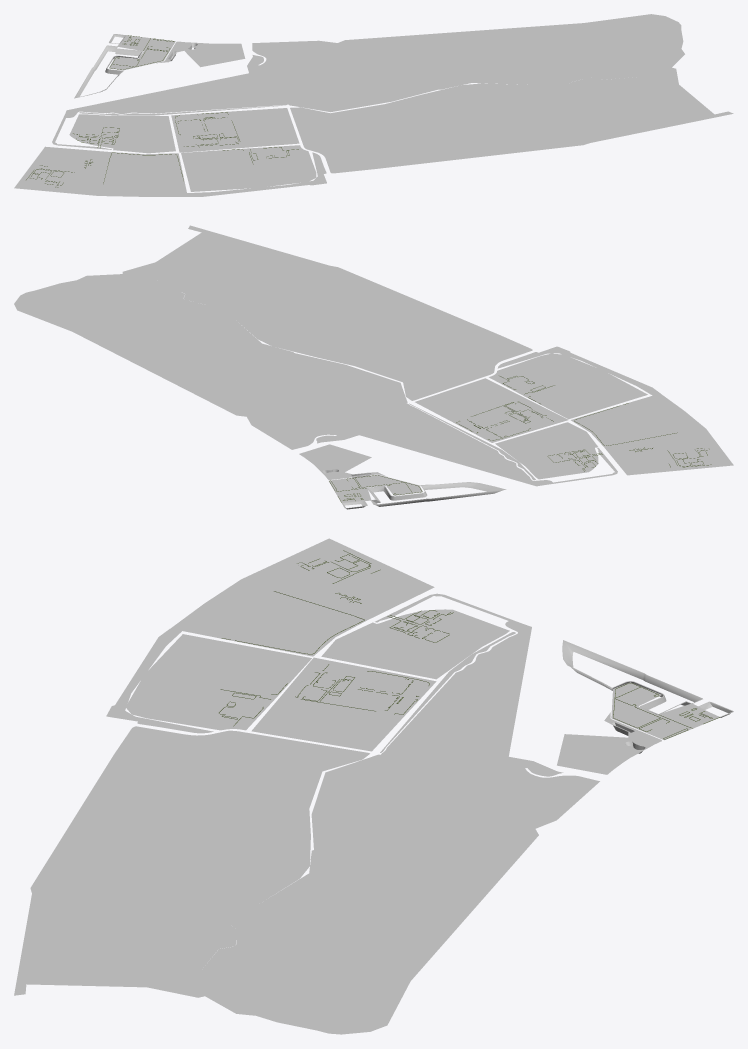
File: grass.fbx
The picture shows the model from 3 angles, top to bottom: view 1: azimuth 30°, elevation 25°; view 2: azimuth 150°, elevation 25°; view 3: azimuth 270°, elevation 25°; orthographic projection. The views are drawn at different scales.
Visible parts, largest first — view 1: grass; view 2: grass; view 3: grass.
Boxes of the visible parts, <box> form: grass: <box>14,14,733,196</box>; grass: <box>14,225,733,509</box>; grass: <box>14,538,733,1034</box>.
Bounding box in the file's own units: 376888 × 1890 × 231141.
